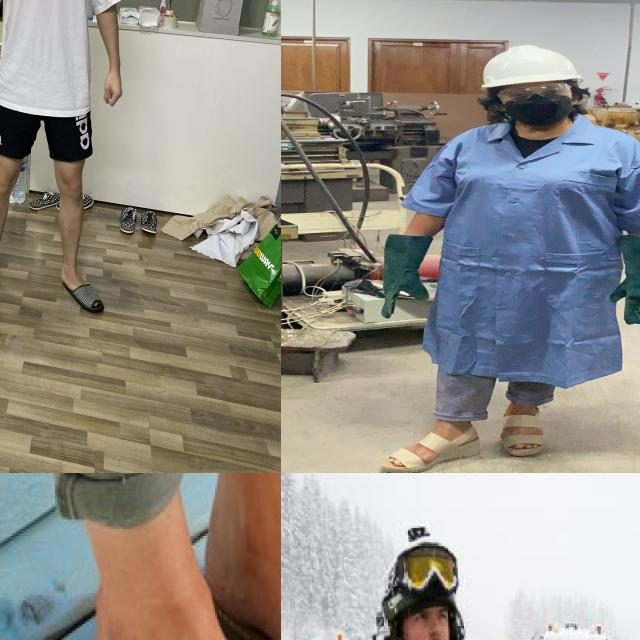No_Glasses: (409, 605, 454, 626)
Sandals: (83, 577, 281, 640), (60, 252, 106, 312)
face_mask: (491, 81, 582, 126)
face_nomask: (403, 601, 455, 640)
glasses: (390, 534, 459, 601), (492, 82, 578, 104)
hand_glove: (359, 254, 446, 322), (602, 269, 640, 325)
head_helmet: (470, 41, 588, 92)
person: (353, 45, 640, 473), (321, 531, 538, 640)
